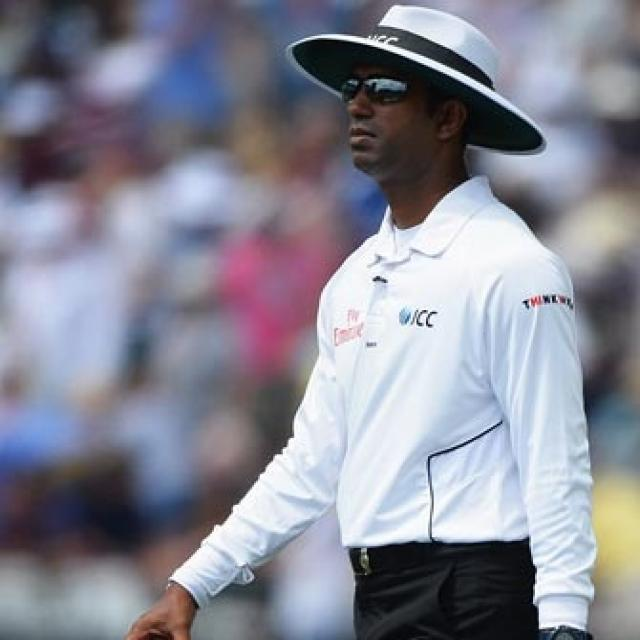No_Action: (118, 0, 640, 640)
